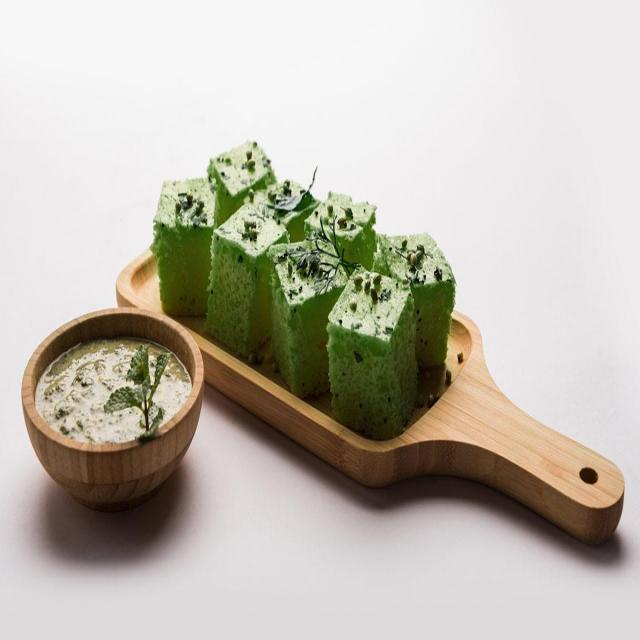dhokla: (160, 143, 453, 426)
